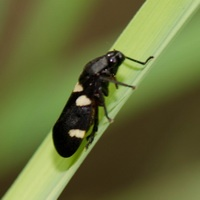insect: (53, 50, 153, 156)
